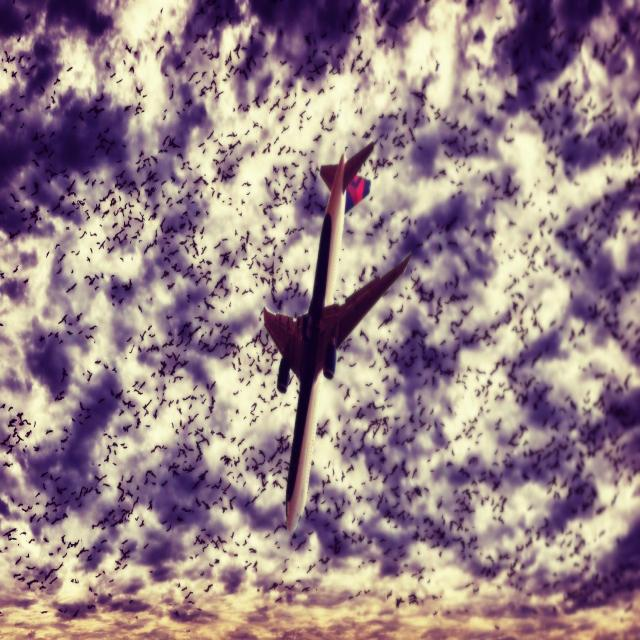airplane: (261, 140, 412, 533)
